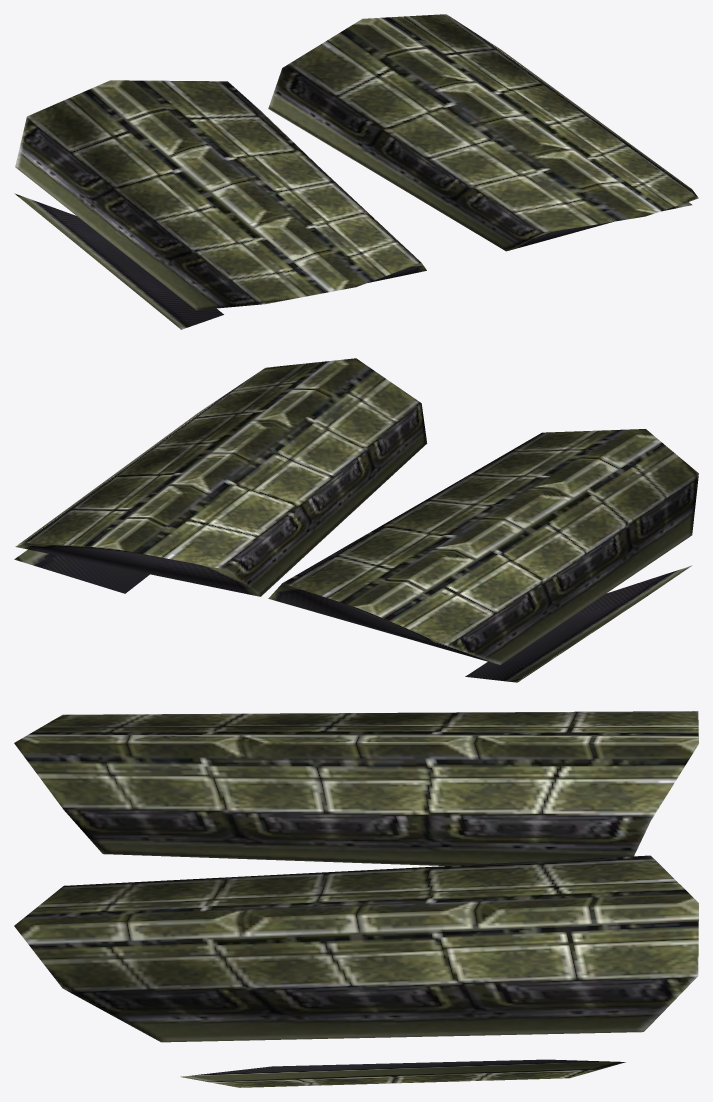
File: LegPads5__FDC.glb
3 views of the same model, one above another, from view 1: azimuth 30°, elevation 25°; view 2: azimuth 150°, elevation 25°; view 3: azimuth 270°, elevation 25° (orthographic). The views are drawn at different scales.
Visible parts, largest first — view 1: LegPads5; view 2: LegPads5; view 3: LegPads5.
Boxes of the visible parts, left/top/right/bottom form: LegPads5: left=14, top=14, right=698, bottom=329; LegPads5: left=14, top=358, right=698, bottom=682; LegPads5: left=14, top=711, right=698, bottom=1087.
Bounding box in the file's own units: 21.54 × 4.08 × 19.31.
1 material, 1 textured.
